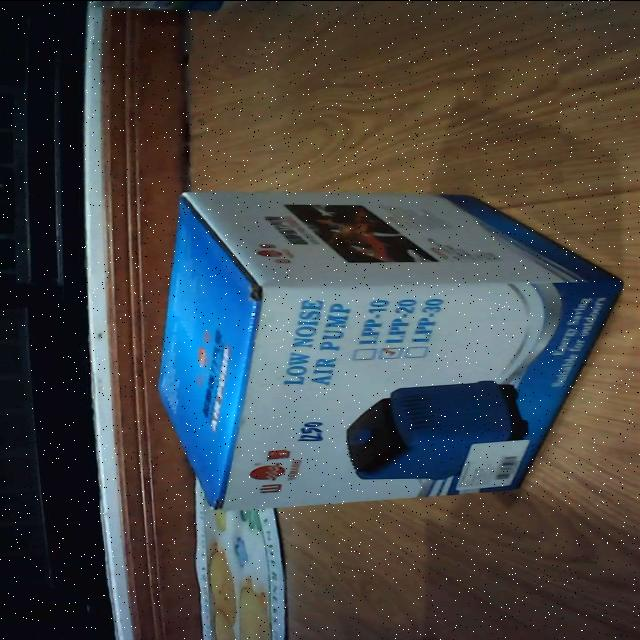YAMANO_LPP_20: (152, 181, 628, 515)
